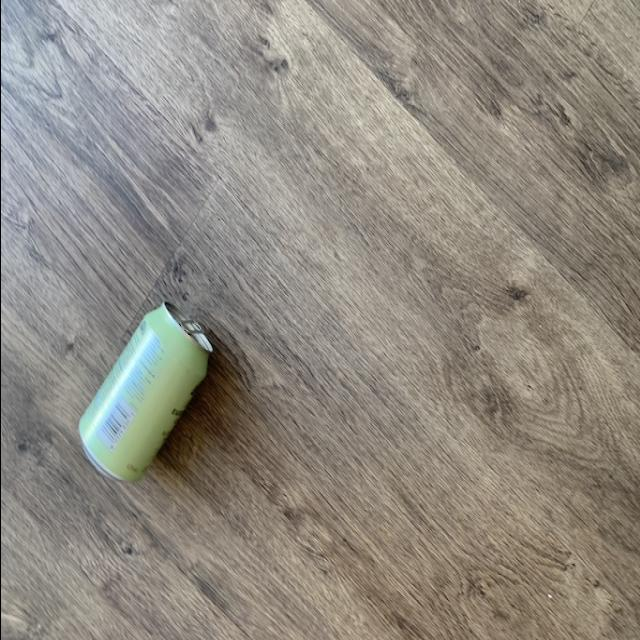Aluminum Can: (72, 280, 216, 514)
